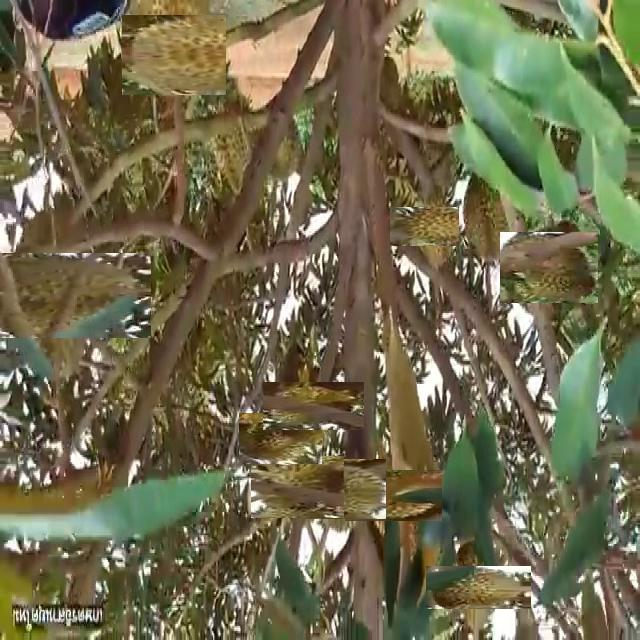durian: (0, 225, 124, 367), (128, 8, 220, 101), (507, 225, 592, 310), (459, 155, 519, 267), (259, 448, 337, 526), (441, 550, 515, 625), (356, 458, 430, 533), (277, 369, 351, 443), (307, 453, 380, 526), (255, 98, 304, 190), (247, 405, 314, 472), (403, 194, 469, 260)
